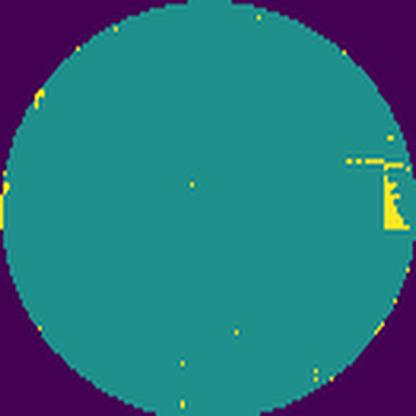Loc: (358, 160, 410, 232)
